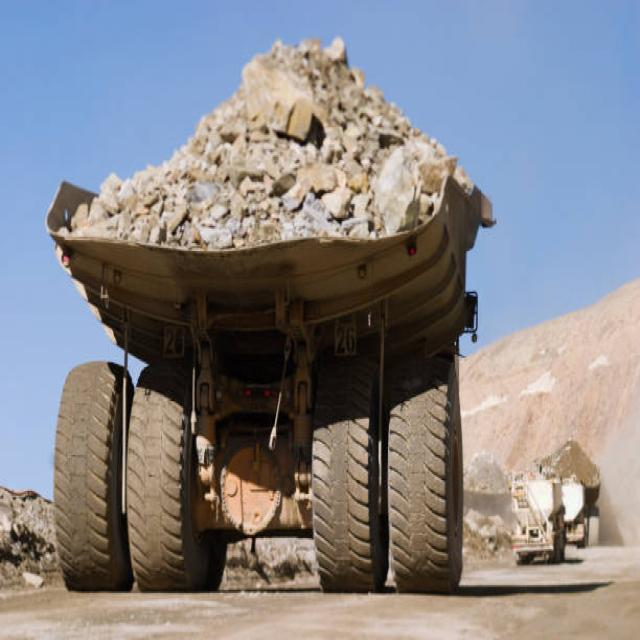uncovered: (49, 38, 477, 602)
